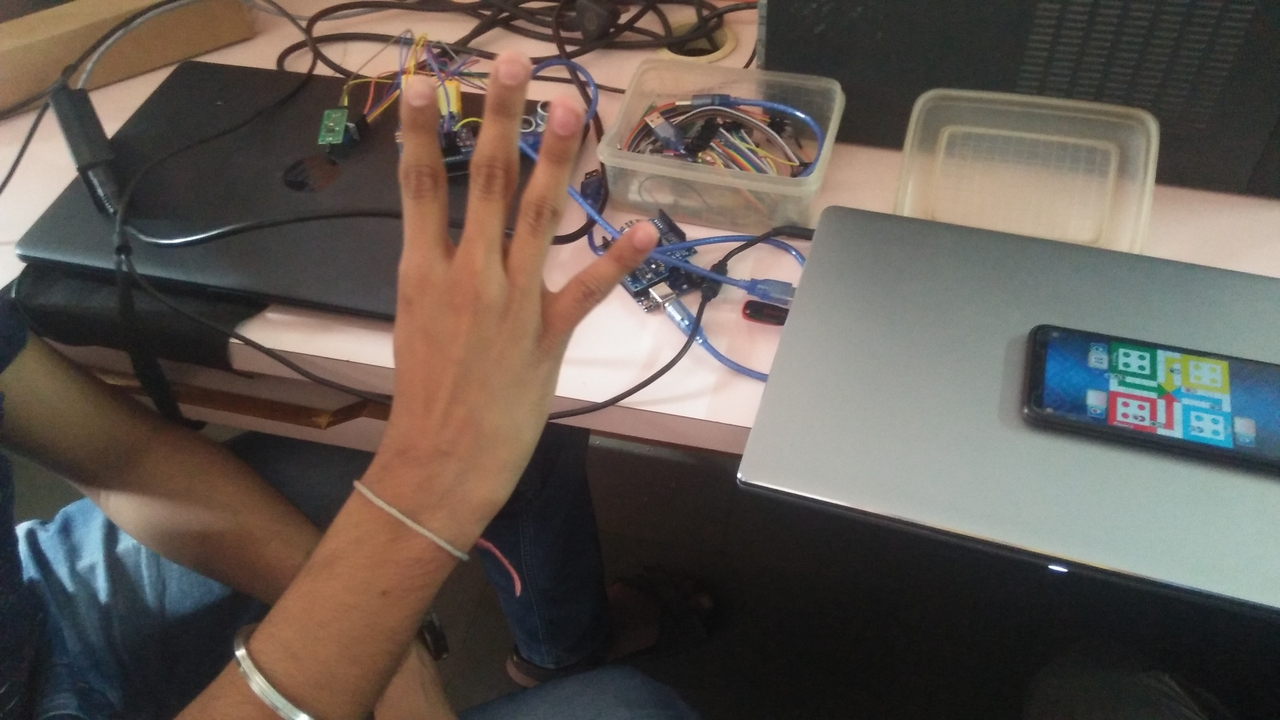fingertip: (608, 221, 669, 269), (532, 84, 586, 136), (480, 42, 532, 94)
